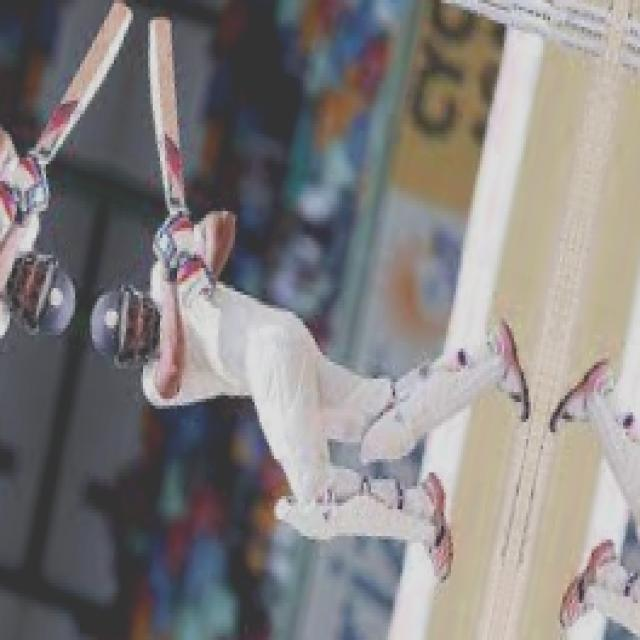toe: (143, 17, 181, 36)
